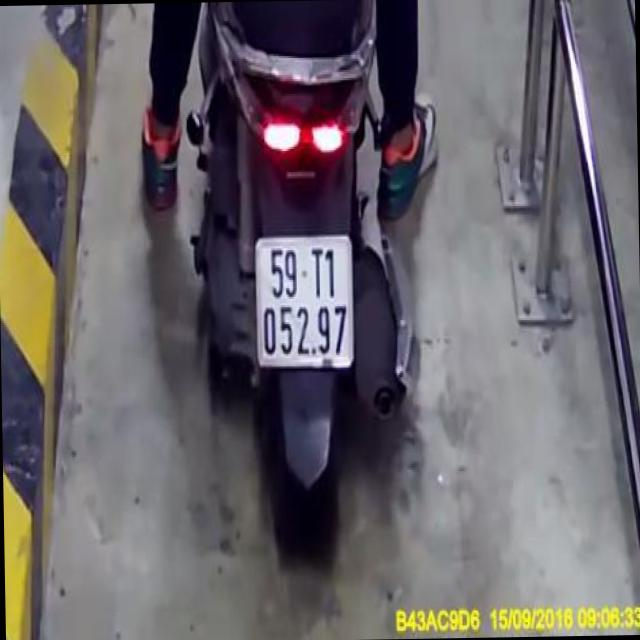LP: (256, 232, 355, 371)
